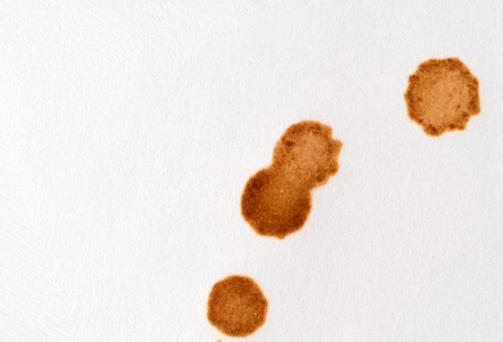stain: (236, 116, 342, 243), (402, 54, 485, 142), (197, 270, 274, 336)
